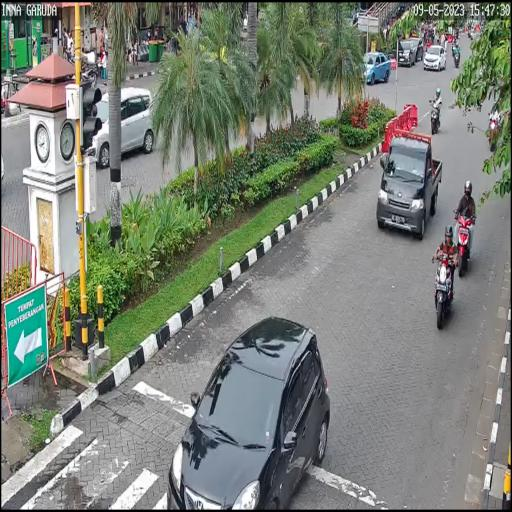mobil: (158, 314, 330, 512), (375, 127, 441, 241)
motor: (451, 204, 480, 282), (432, 245, 458, 331)
